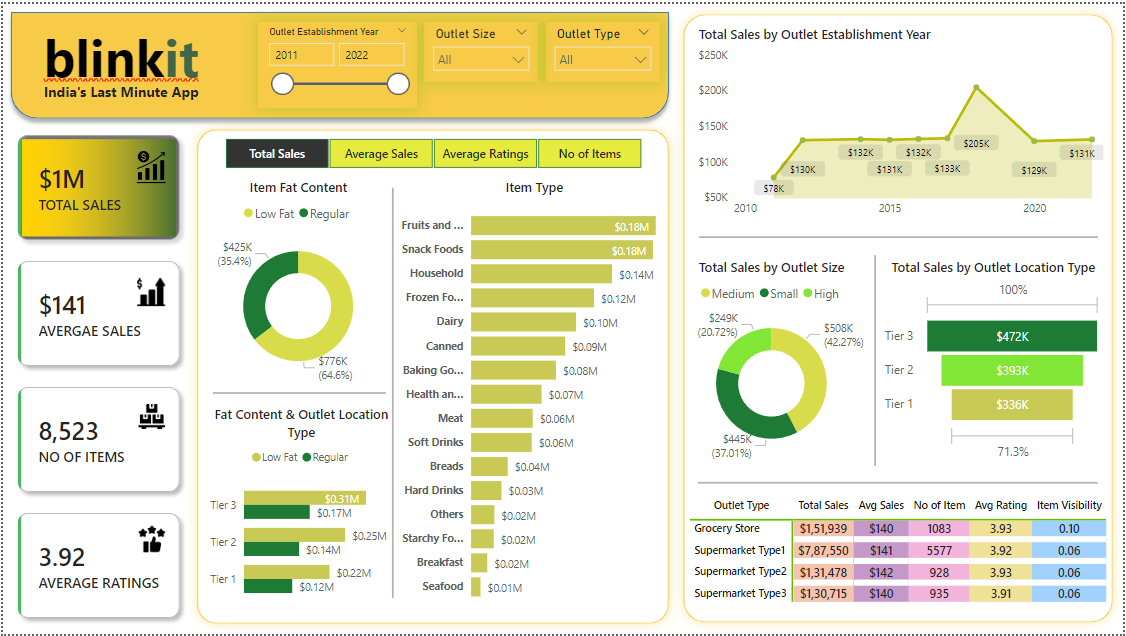

This screenshot's page, from the dashboard's own definition file:
{"tool":"powerbi","page":{"name":"Page 1","canvas":[1280,720],"ordinal":0},"visuals":[{"type":"cardVisual","fields":{"Data":["Sheet1.TOTAL SALES","Avg(Sheet1.Sales)","CountNonNull(Sheet1.Item Identifier)","Avg(Sheet1.Rating)"]},"box":[0,132.7,220,587.3],"z":0},{"type":"card","fields":{"Values":["CountNonNull(Sheet1.Item Identifier)"]},"box":[904.3,265.7,265.7,142.9],"z":1000},{"type":"shape","box":[0,0,770,140],"z":2000},{"type":"textbox","box":[41.8,15.5,256.4,90],"z":3000},{"type":"textbox","box":[41.8,83.6,270,42.7],"z":4000},{"type":"shape","box":[210,131.4,562.9,588.6],"z":5000},{"type":"slicer","fields":{"Values":["Parameter.Parameter"]},"box":[228.9,146.7,524.4,46.7],"z":6000},{"type":"donutChart","title":"Item Fat Content","fields":{"Y":["Sheet1.Total Sales"],"Category":["Sheet1.Item Fat Content"]},"box":[227.6,198.8,209.8,227.6],"z":7000},{"type":"clusteredBarChart","title":"Fat Content & Outlet Location Type","fields":{"Y":["Sheet1.Total Sales"],"Category":["Sheet1.Outlet Location Type"],"Series":["Sheet1.Item Fat Content"]},"box":[229,457.9,224.9,238.6],"z":8000},{"type":"shape","box":[765.7,0,514.3,718.6],"z":9000},{"type":"slicer","fields":{"Values":["Sheet1.Outlet Establishment Year"]},"box":[290.9,20,181.8,99.1],"z":10000},{"type":"stackedAreaChart","title":"Total Sales by Outlet Establishment Year","fields":{"Y":["Sum(Sheet1.Sales)"],"Category":["Sheet1.Outlet Establishment Year"]},"box":[790,24.3,472.9,227.1],"z":11000},{"type":"donutChart","title":"Total Sales by Outlet Size","fields":{"Category":["Sheet1.Outlet Size"],"Y":["Sum(Sheet1.Sales)"]},"box":[760,290,236.7,237.8],"z":12000},{"type":"funnel","title":"Total Sales by Outlet Location Type","fields":{"Category":["Sheet1.Outlet Location Type"],"Y":["Sum(Sheet1.Sales)"]},"box":[1002.2,290,257.8,237.8],"z":13000},{"type":"pivotTable","fields":{"Rows":["Sheet1.Outlet Type"],"Values":["Sum(Sheet1.Sales)","Avg(Sheet1.Sales)","CountNonNull(Sheet1.Item Identifier)","Avg(Sheet1.Rating)","Avg(Sheet1.Item Visibility)"]},"box":[778.8,559.4,493.6,142.6],"z":14000},{"type":"shape","box":[239.9,416.8,197.4,54.8],"z":15000},{"type":"shape","box":[338.6,209.8,213.9,468.9],"z":16000},{"type":"barChart","title":"Item Type","fields":{"Y":["Sheet1.Total Sales"],"Category":["Sheet1.Item Type"]},"box":[437.4,198.8,312.6,494.9],"z":17000},{"type":"shape","box":[795.7,255.7,455.7,21.4],"z":18000},{"type":"shape","box":[794.4,537.8,456.7,20],"z":19000},{"type":"shape","box":[890,287.8,213.3,241.1],"z":20000},{"type":"slicer","fields":{"Values":["Sheet1.Outlet Type"]},"box":[620,20,130.9,69.1],"z":21000},{"type":"slicer","fields":{"Values":["Sheet1.Outlet Size"]},"box":[480.9,20,130,69.1],"z":22000},{"type":"image","box":[145.7,162.9,47.1,47.1],"z":23000},{"type":"image","box":[145.7,307.1,47.1,44.3],"z":24000},{"type":"image","box":[149.3,451.4,40,40.7],"z":25000},{"type":"image","box":[149.1,590.9,43.6,40],"z":26000}]}

Visuals, with their boxes in screenshot pixels (x1, y1, x2, y2), scaled from the page's 1280x720 canvas onto the 1126x636 screenshot:
cardVisual - Sheet1.TOTAL SALES x Avg(Sheet1.Sales): rect(0, 117, 194, 635)
card - CountNonNull(Sheet1.Item Identifier): rect(796, 235, 1029, 361)
shape: rect(0, 0, 677, 124)
textbox: rect(37, 14, 262, 93)
textbox: rect(37, 74, 274, 112)
shape: rect(185, 116, 680, 635)
slicer - Parameter.Parameter: rect(201, 130, 663, 171)
"Item Fat Content" donutChart: rect(200, 176, 385, 377)
"Fat Content & Outlet Location Type" clusteredBarChart: rect(201, 404, 399, 615)
shape: rect(674, 0, 1125, 635)
slicer - Sheet1.Outlet Establishment Year: rect(256, 18, 416, 105)
"Total Sales by Outlet Establishment Year" stackedAreaChart: rect(695, 21, 1111, 222)
"Total Sales by Outlet Size" donutChart: rect(669, 256, 877, 466)
"Total Sales by Outlet Location Type" funnel: rect(882, 256, 1108, 466)
pivotTable - Sheet1.Outlet Type x Sum(Sheet1.Sales): rect(685, 494, 1119, 620)
shape: rect(211, 368, 385, 417)
shape: rect(298, 185, 486, 600)
"Item Type" barChart: rect(385, 176, 660, 613)
shape: rect(700, 226, 1101, 245)
shape: rect(699, 475, 1101, 493)
shape: rect(783, 254, 971, 467)
slicer - Sheet1.Outlet Type: rect(545, 18, 661, 79)
slicer - Sheet1.Outlet Size: rect(423, 18, 537, 79)
image: rect(128, 144, 170, 186)
image: rect(128, 271, 170, 310)
image: rect(131, 399, 167, 435)
image: rect(131, 522, 170, 557)
